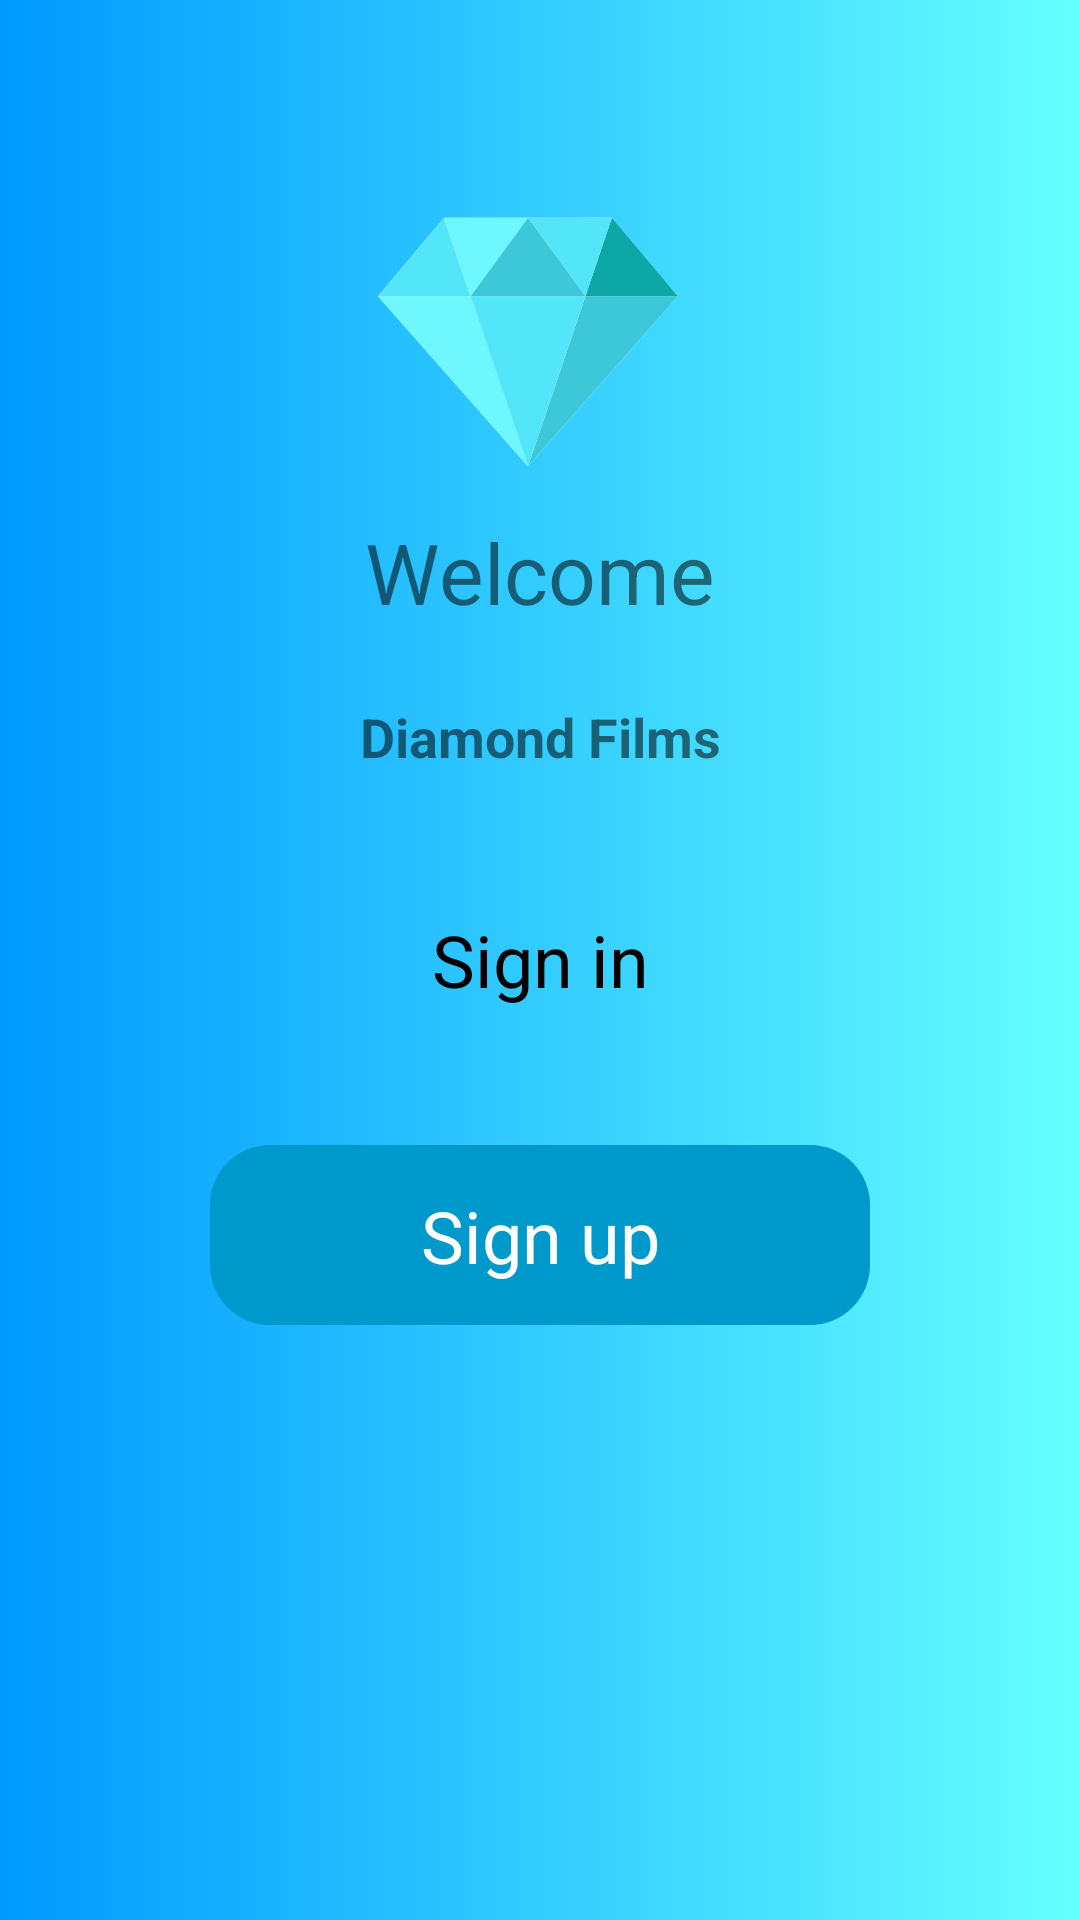

Screen size 1080px×1920px. Icon name, then its box in pixels as (x1=x1, y1=y1, x2=x2, y2=y2):
diamond: (x1=378, y1=192, x2=678, y2=492)
